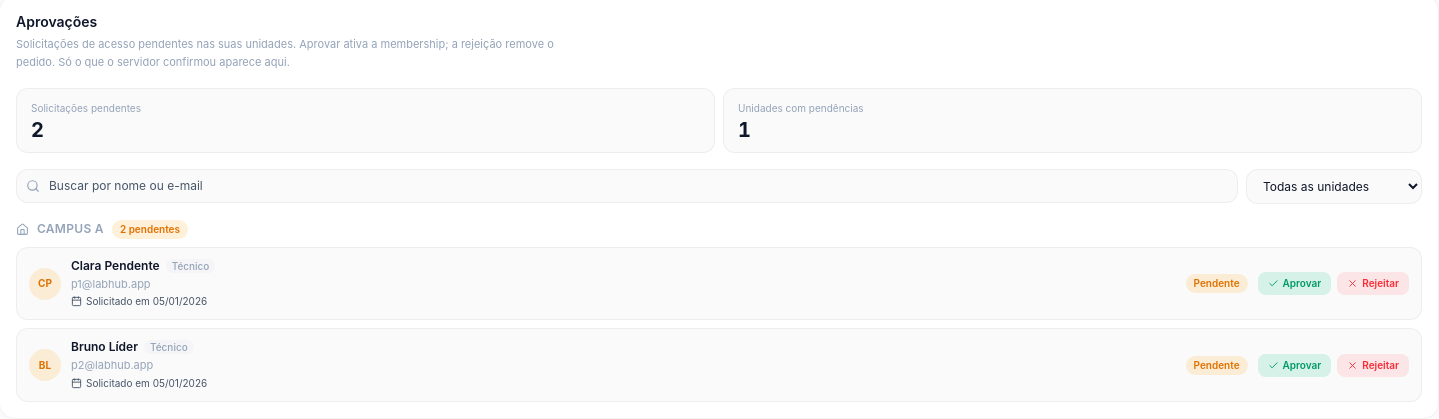
CoordinatorApprovalsTab — fila de aprovações READ-ONLY sobre o escopo (V1) › busca por nome filtra a fila (client-side, sobre dados do escopo)
This screenshot has width=1439, height=419.
Type "clara" into the search field with test id "approvals-search". click: (627, 186)
box: [16,169,1238,203]
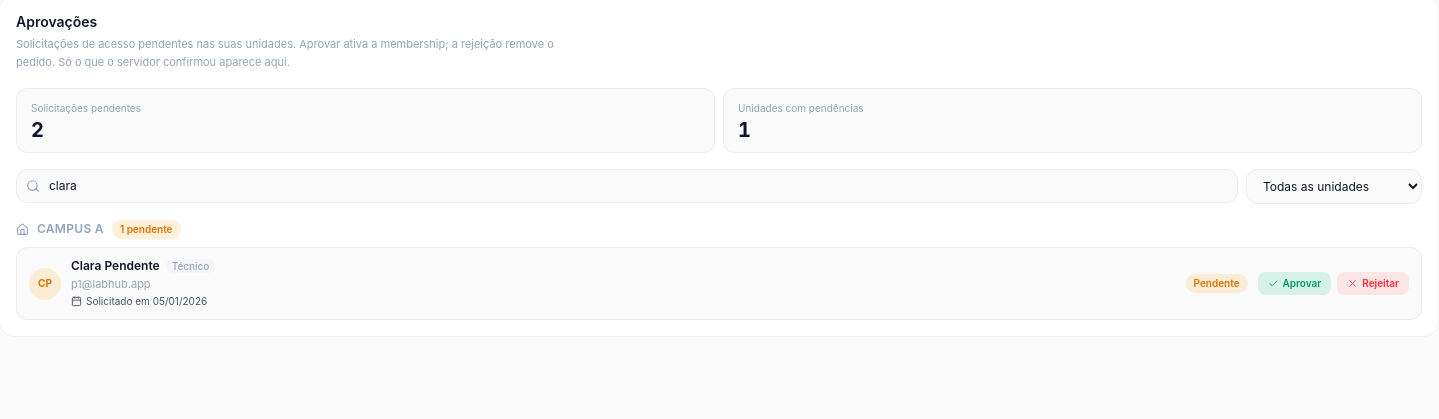
Expected: the text "Clara Pendente" is shown, [71,258,160,274]
Expected: the text "Bruno Líder" is gone
